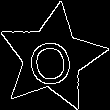O_N: (27, 29, 78, 87)
